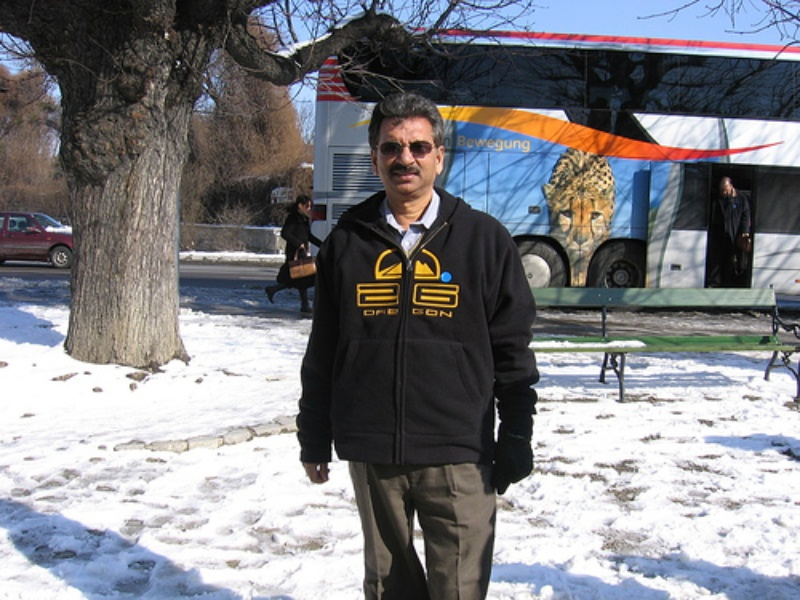car: (314, 29, 800, 302), (1, 211, 73, 267)
person: (295, 92, 541, 600), (266, 196, 323, 313), (711, 175, 752, 285)
